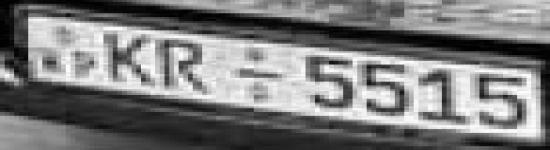-: (226, 65, 294, 83)
1: (415, 65, 474, 128)
5: (296, 52, 361, 113), (471, 69, 533, 131), (358, 59, 413, 120)
K: (99, 30, 155, 88)
P: (68, 49, 100, 82)
R: (150, 34, 214, 96)
W: (32, 47, 67, 78)
